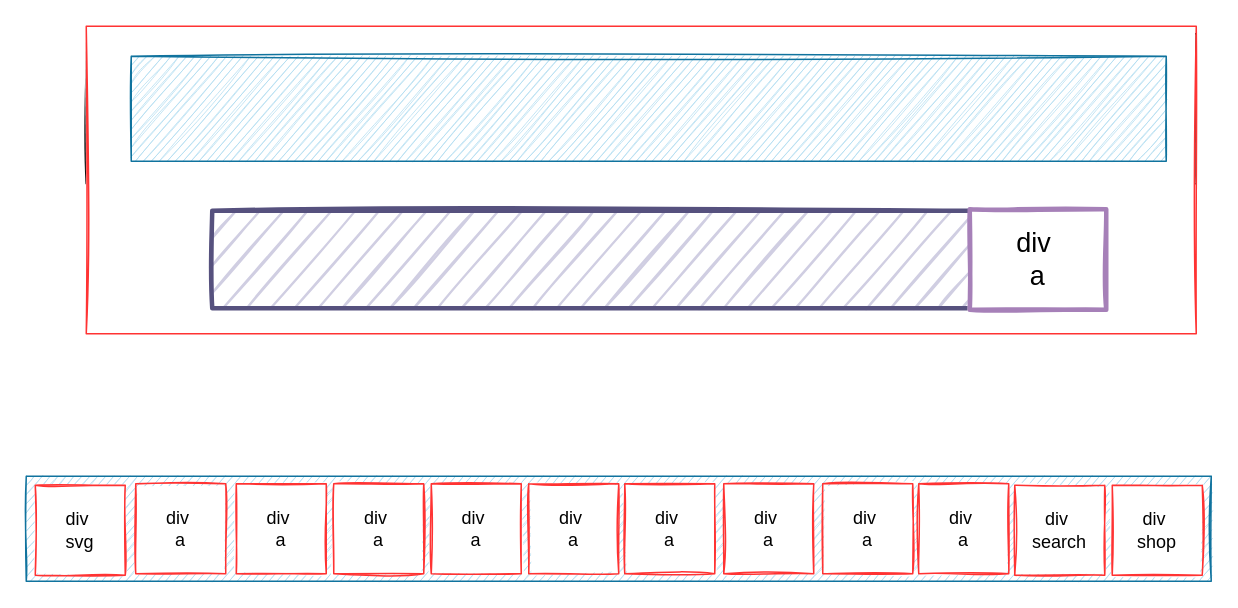
Some shapes in this 1238 by 608 pixel diagram are drawn without their labels. The centre of each missing label's shape, as x and y in pixels:
"div top_links" belongs at (648,108).
"paragraph" belongs at (591,259).
